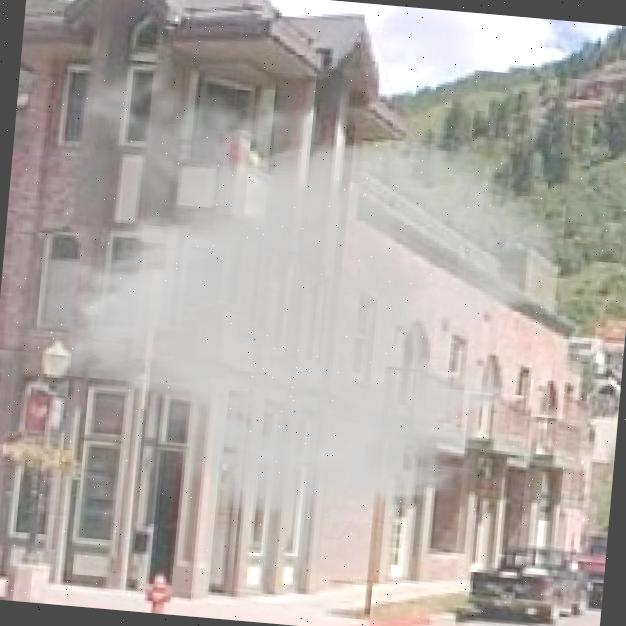smoke: (0, 46, 579, 612)
